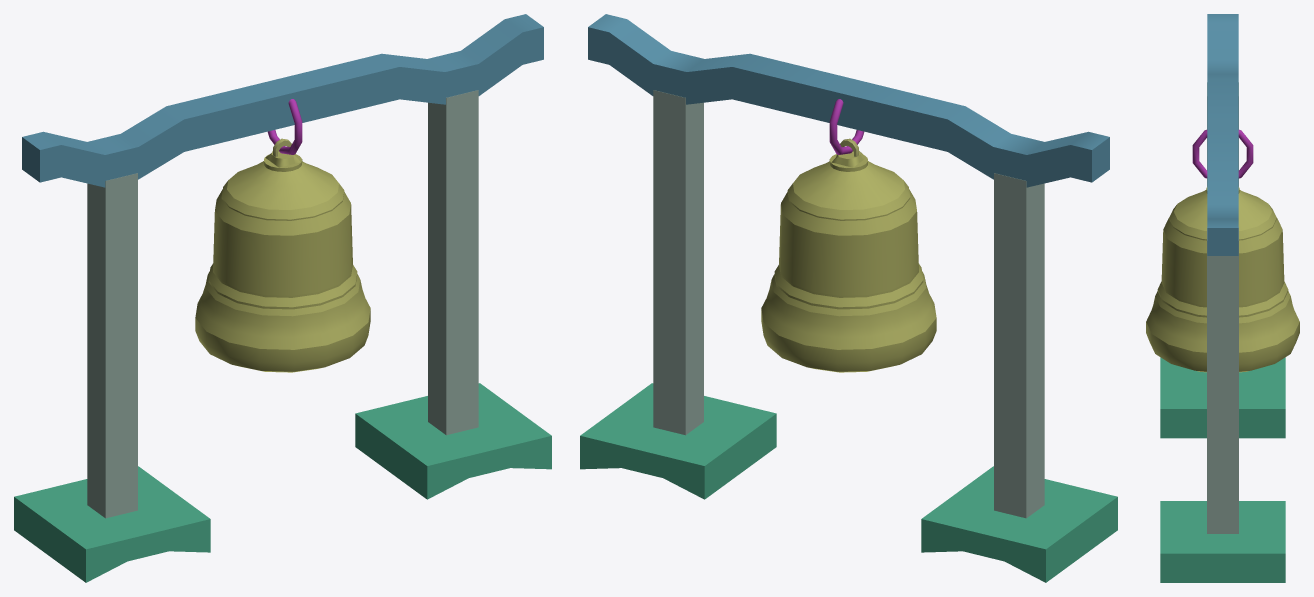
The model's file is Bell.fbx.
3 views of the same model, side by side, from view 1: azimuth 30°, elevation 25°; view 2: azimuth 150°, elevation 25°; view 3: azimuth 270°, elevation 25° (orthographic). The views are drawn at different scales.
Parts seen in each view (by area): view 1: pPipe4; view 2: pPipe4; view 3: pPipe4.
Part boxes in pixels (bbox=[...]): pPipe4: bbox=[14, 14, 551, 582]; pPipe4: bbox=[580, 14, 1117, 582]; pPipe4: bbox=[1146, 14, 1299, 582].
Bounding box in the file's own units: 20.87 × 16.53 × 6.34.
